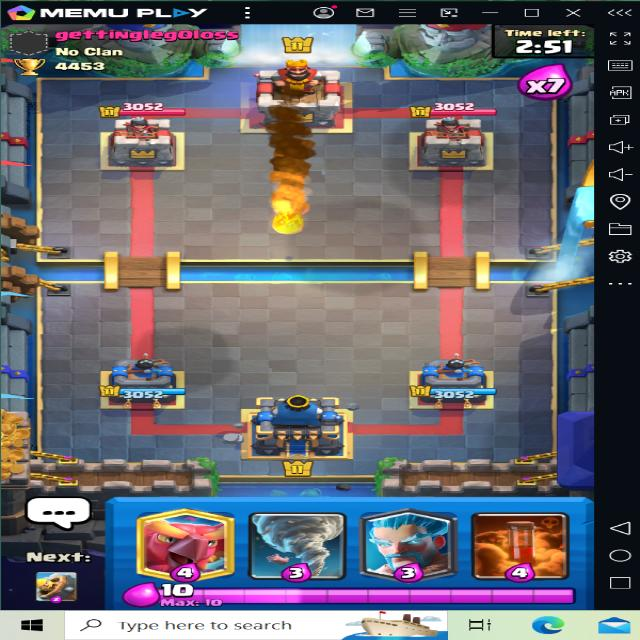Fireball: (258, 118, 338, 238)
